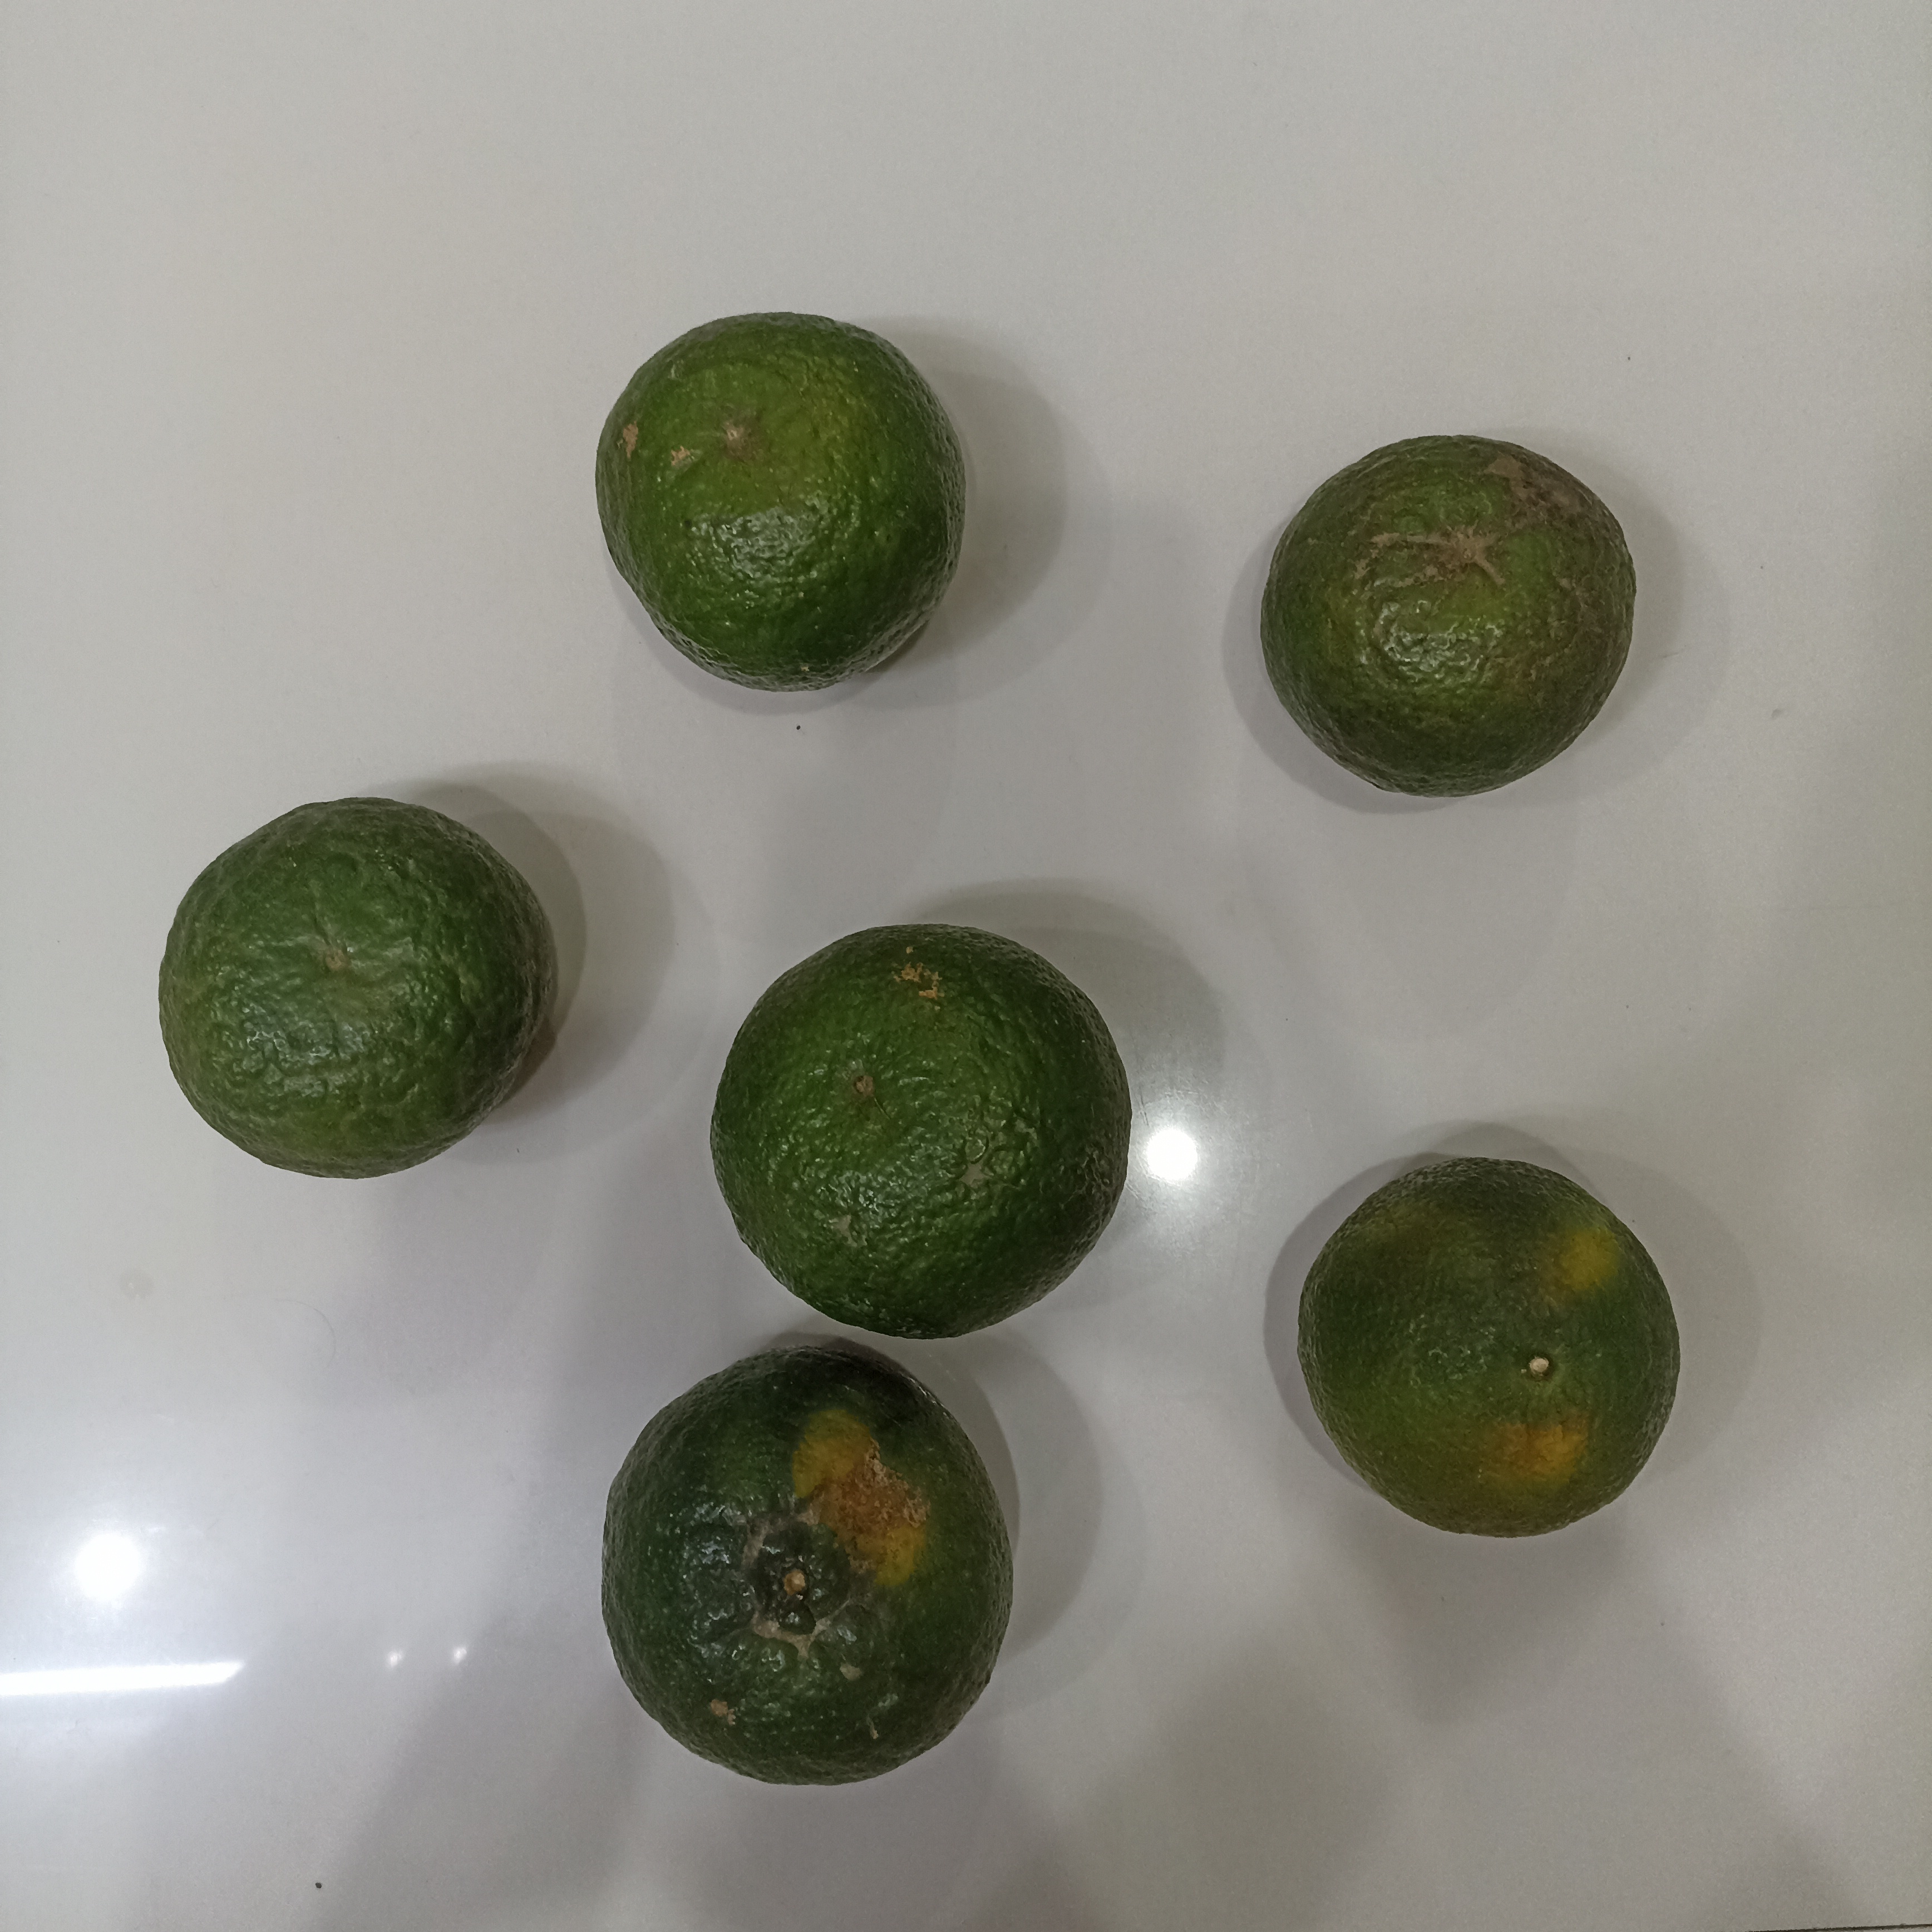Cam: (602, 1341, 1016, 1790), (708, 920, 1139, 1343), (154, 803, 550, 1178), (1295, 1154, 1681, 1536), (594, 310, 966, 695), (1260, 433, 1633, 798)
